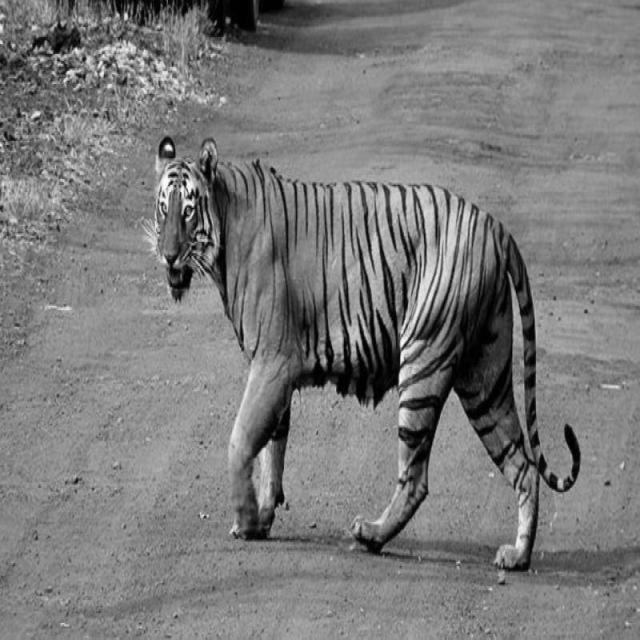TIGER: (143, 125, 582, 572)
